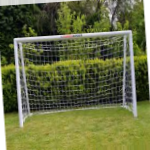goals: (12, 28, 140, 128)
